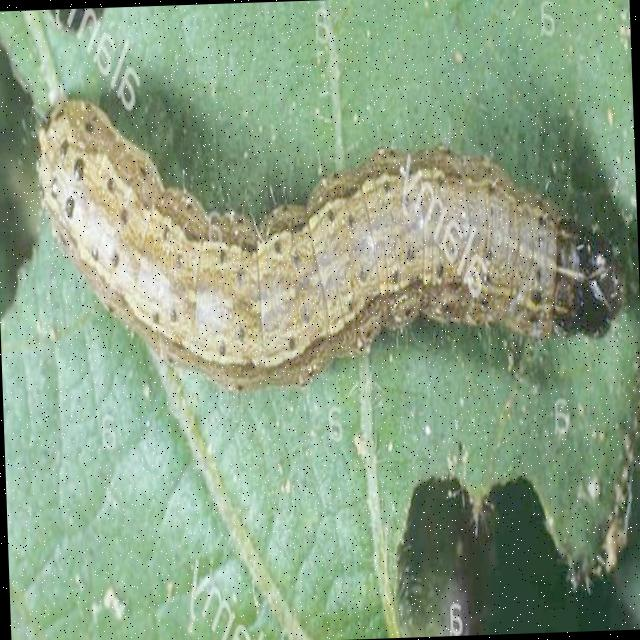worm: (33, 77, 630, 401)
